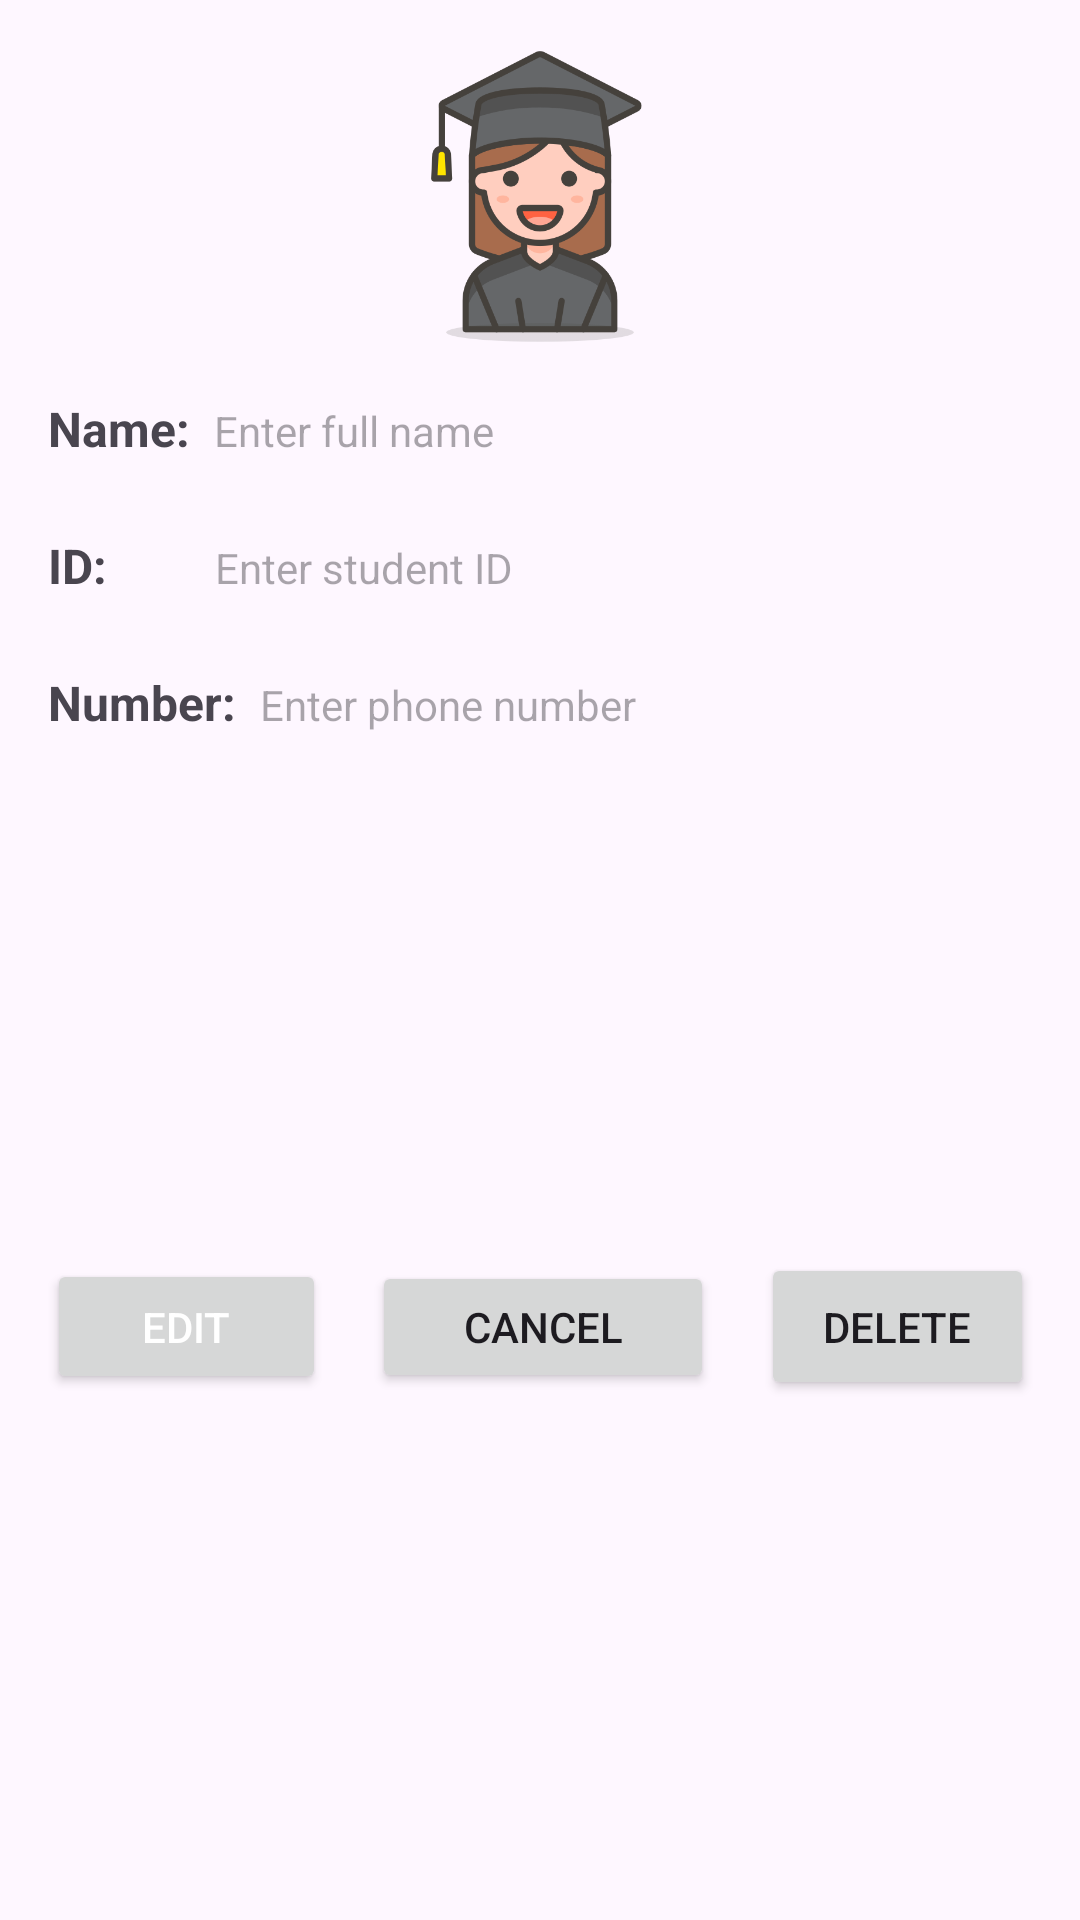

Where icons sit on this 1080×1920 app screen, as (left=x1, top=y1, right=x2, bottom=y2):
Student profile picture: (left=431, top=51, right=642, bottom=341)
